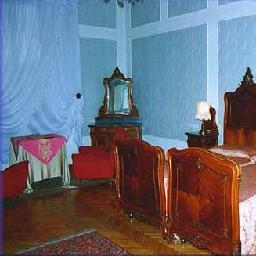Cama: (119, 88, 253, 218), (168, 161, 252, 242)
